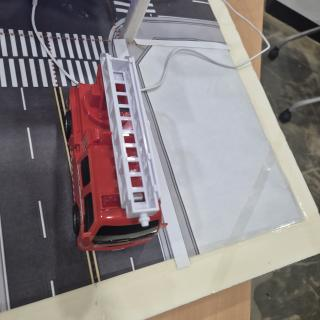Fire_truck: (64, 53, 167, 251)
